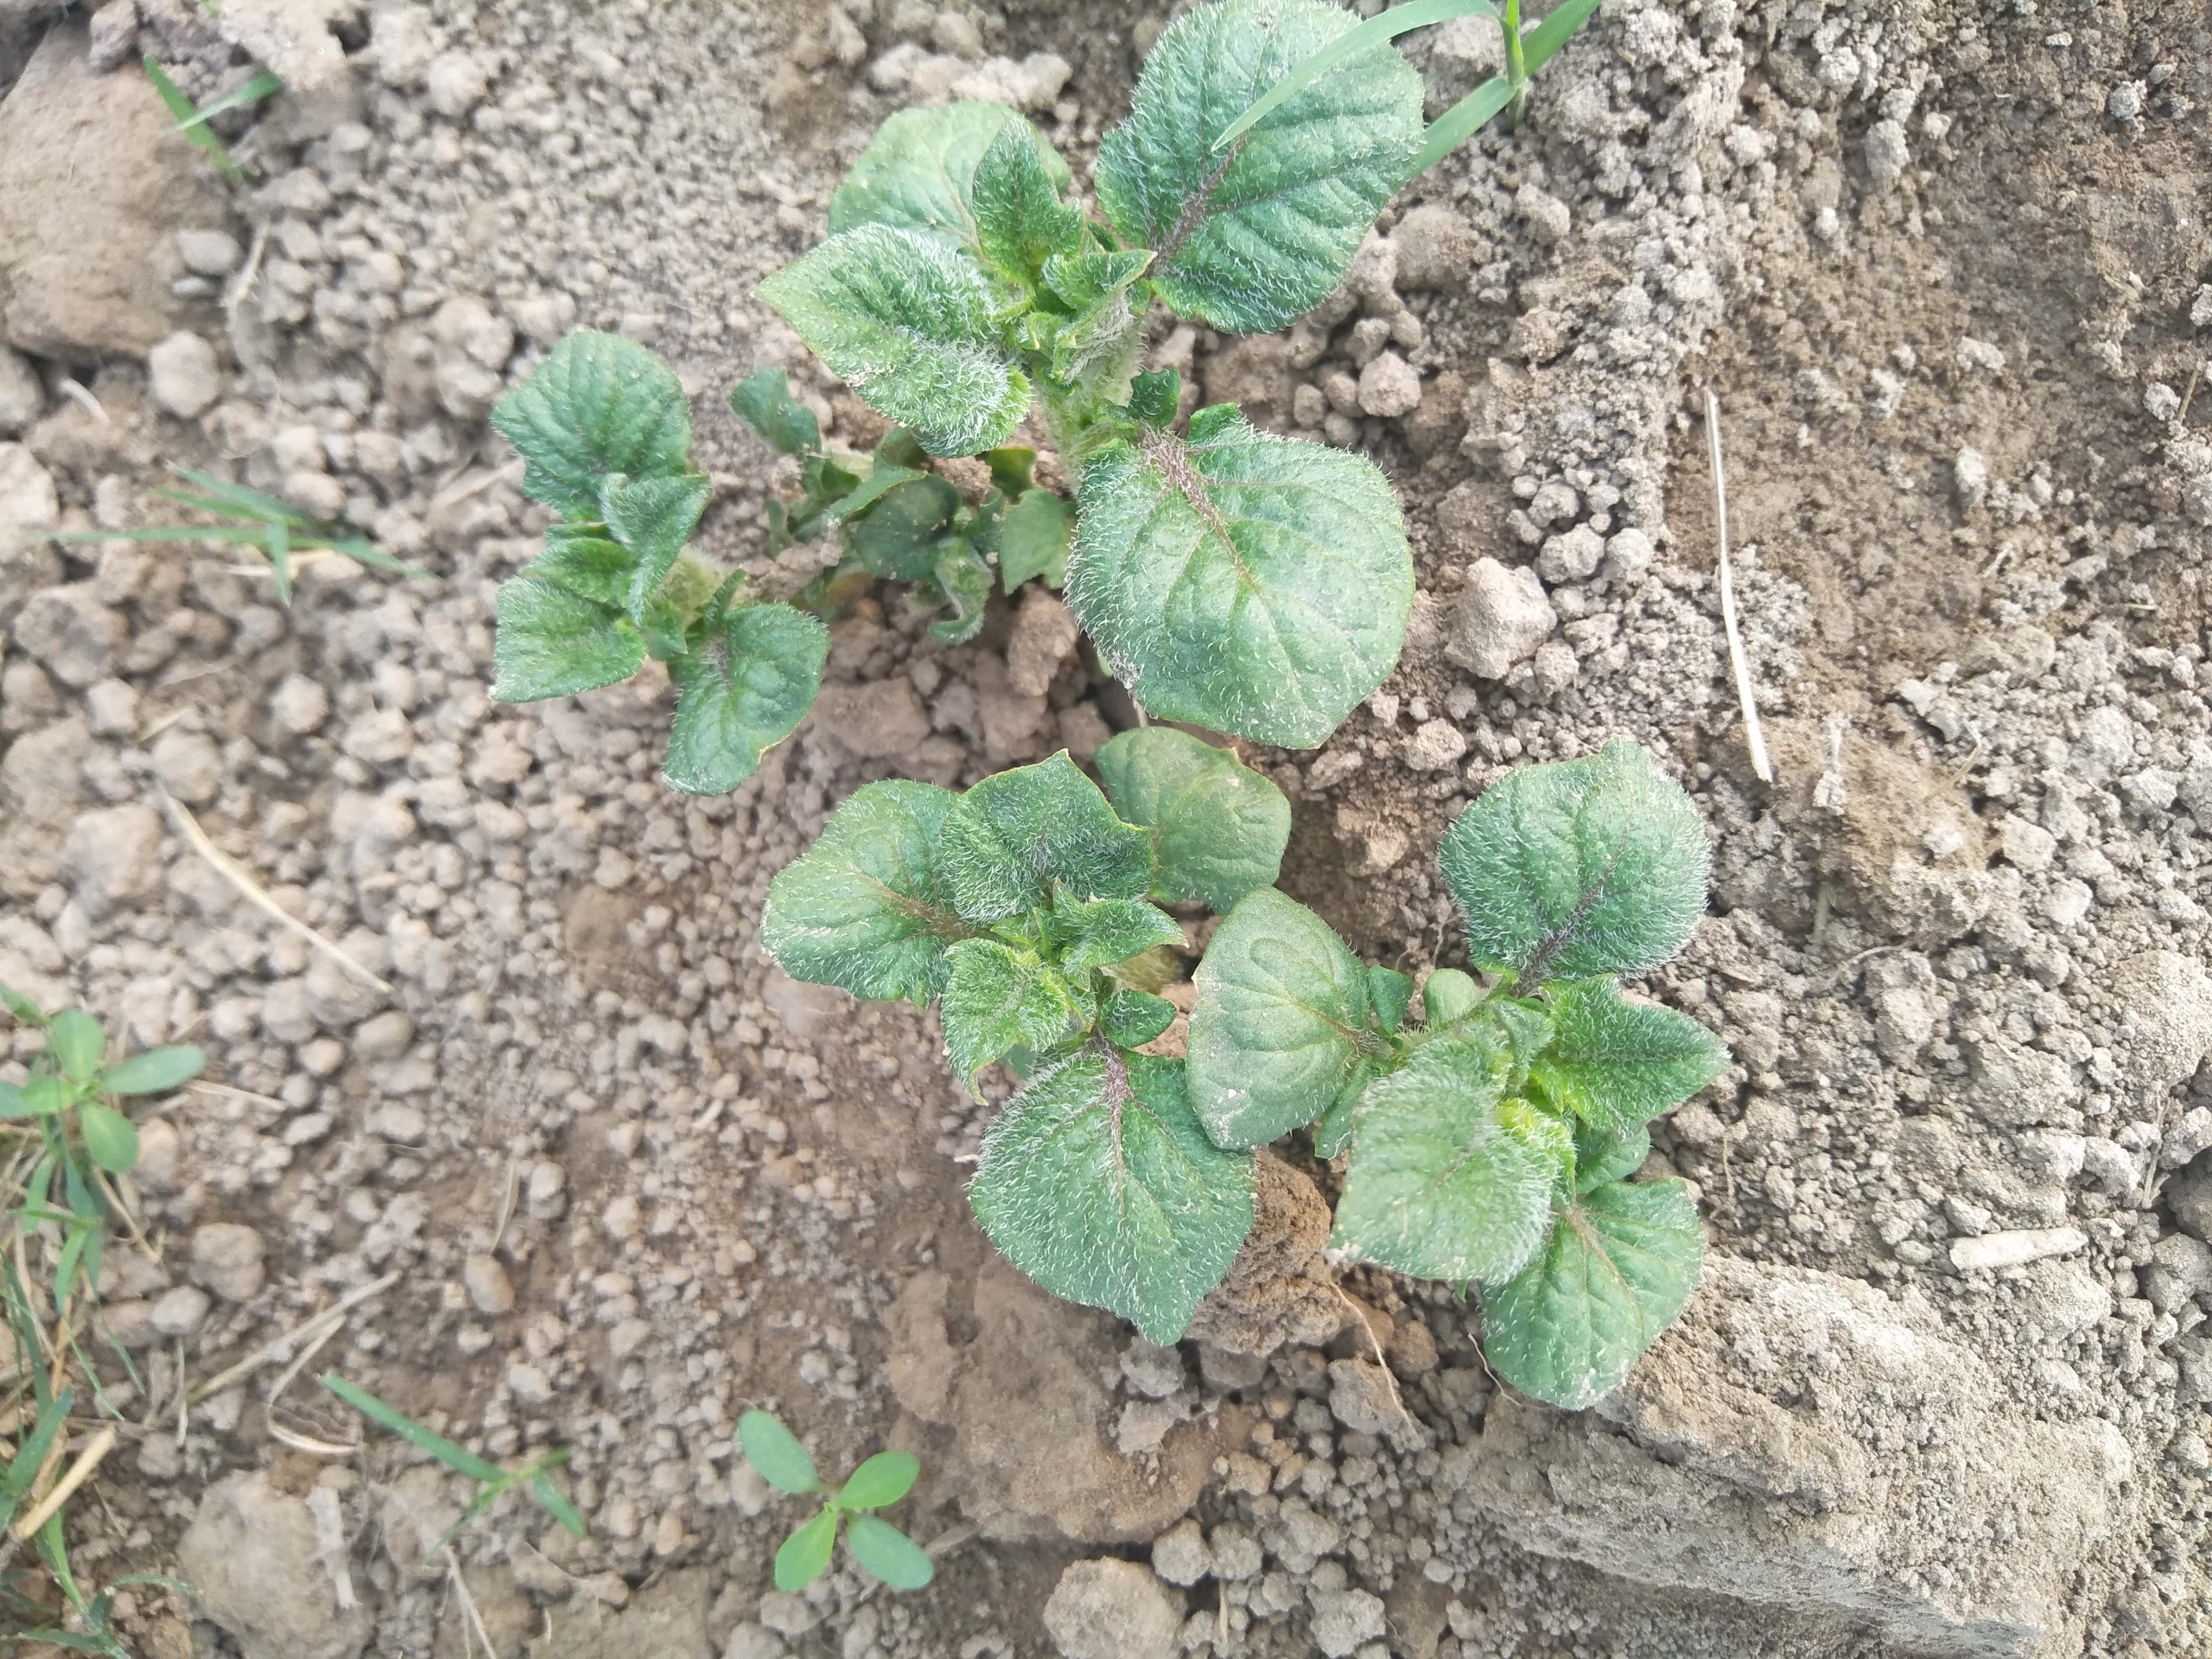daun: (1069, 436, 1397, 734), (1103, 23, 1416, 314), (984, 1061, 1258, 1331), (819, 85, 1090, 317), (1456, 1190, 1714, 1405), (1440, 756, 1691, 969), (766, 251, 1024, 450), (1331, 1066, 1536, 1283), (745, 803, 970, 999), (951, 748, 1146, 962), (1188, 889, 1357, 1136), (636, 592, 848, 770), (498, 335, 693, 519), (1092, 734, 1280, 906), (1540, 995, 1714, 1124), (472, 556, 650, 681), (948, 946, 1076, 1096), (996, 486, 1057, 586), (1103, 995, 1176, 1047)
